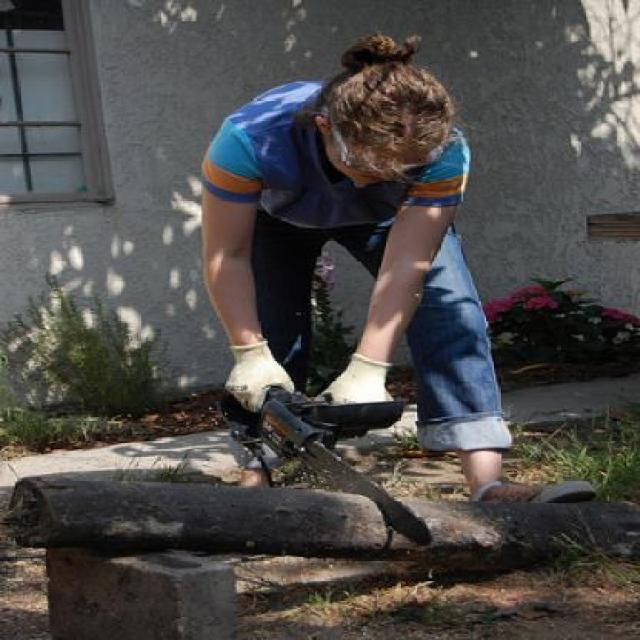Chainsaw: (194, 378, 440, 550)
